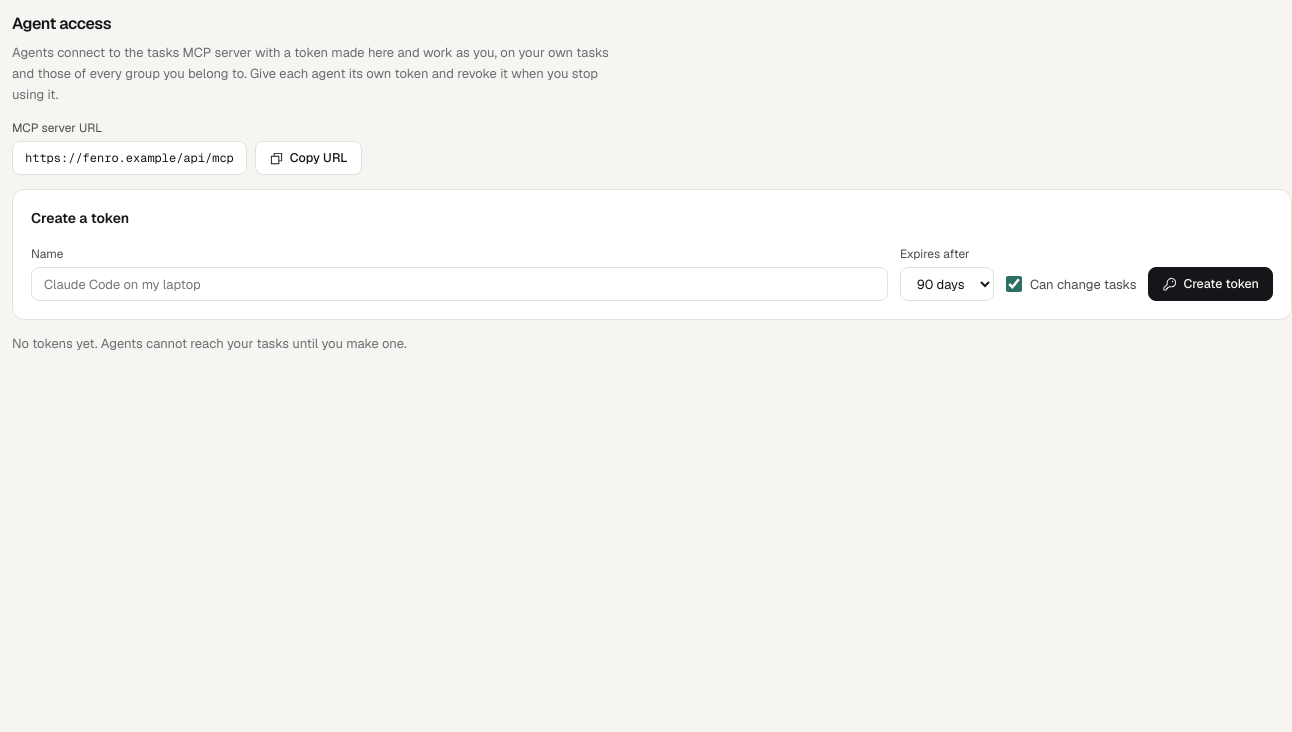
Test: AgentAccess › shows a new token's secret and the command to connect with it
Expected: the text "fenro_pat_0123456789abcdefghijklmnopqrstuvwxyzABCDEFG" is not shown
In the field labelled "Name": (459, 284) x1=31 y1=267 x2=888 y2=301, type "Review bot"
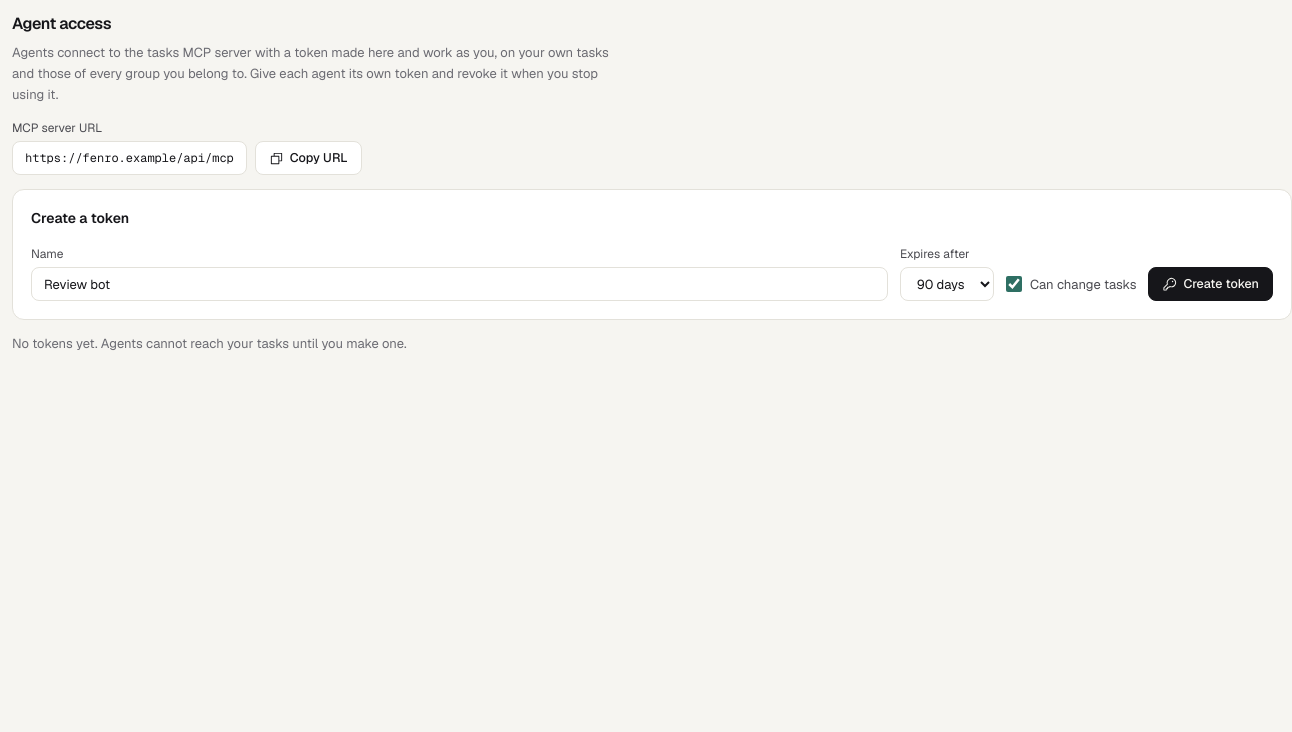
Click the button "Create token": (1211, 284) x1=1148 y1=267 x2=1273 y2=301
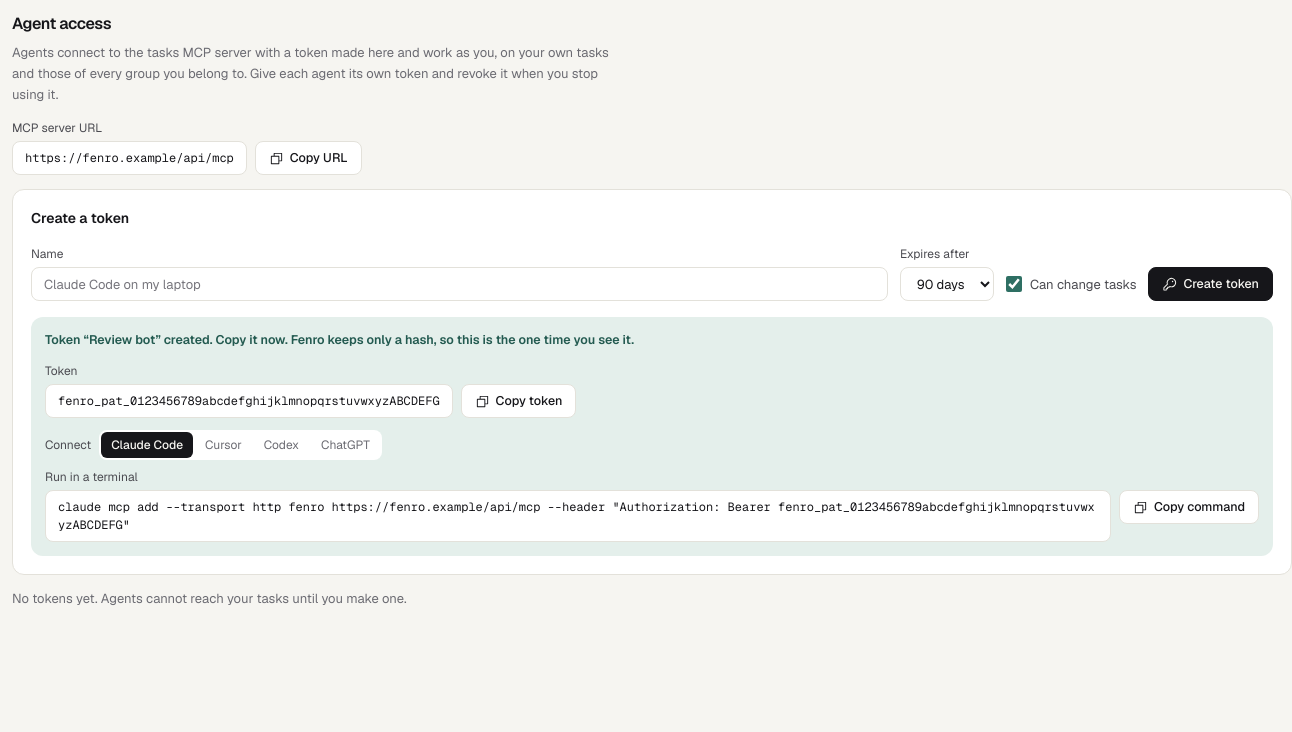
Expected: the text "fenro_pat_0123456789abcdefghijklmnopqrstuvwxyzABCDEFG" is shown, x1=45 y1=384 x2=453 y2=418
